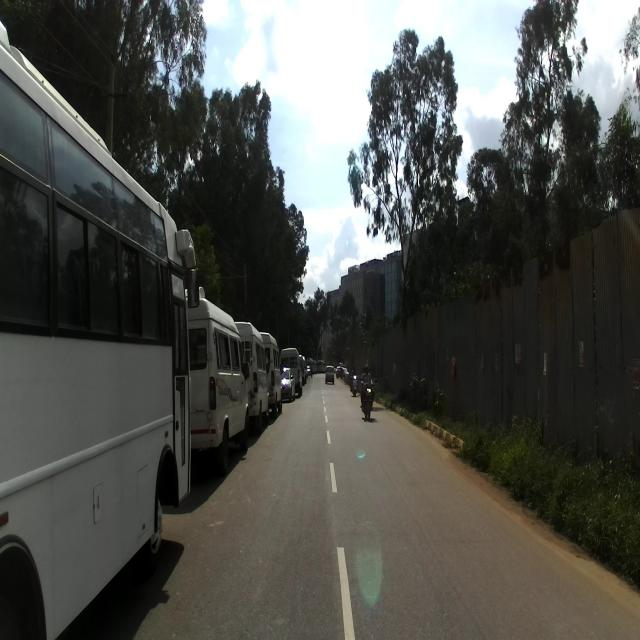bus: (0, 16, 200, 639)
